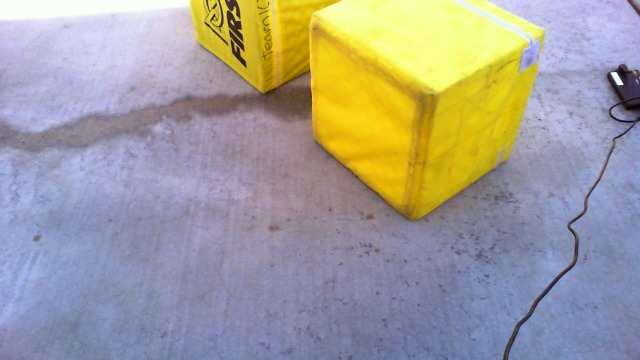cube: (307, 1, 548, 224), (187, 1, 354, 97)
